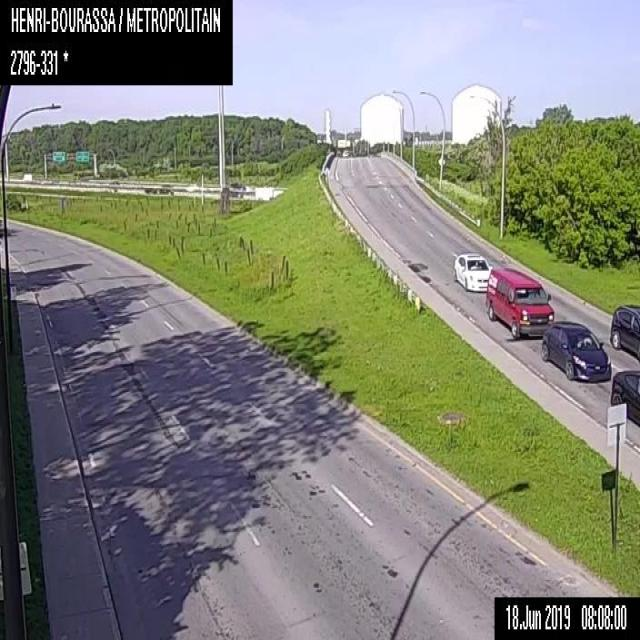vehicle: (486, 268, 554, 338), (540, 319, 610, 381), (608, 300, 639, 360), (452, 252, 493, 292), (611, 369, 639, 425)
